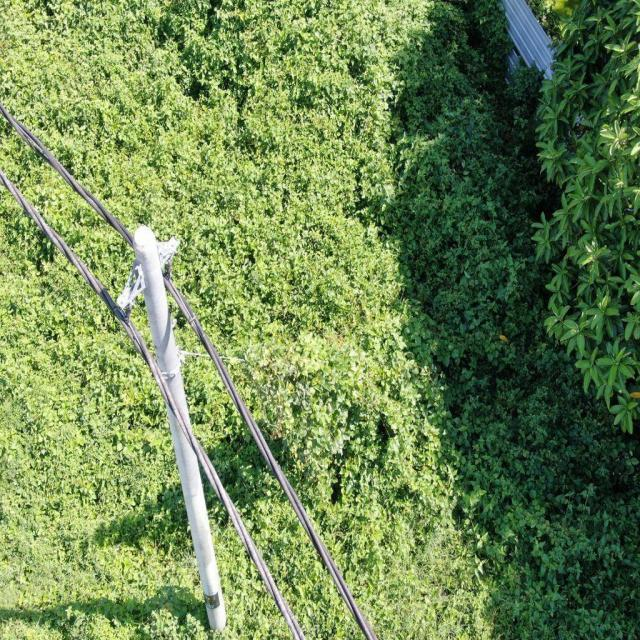critical vegetation: (227, 331, 407, 456)
